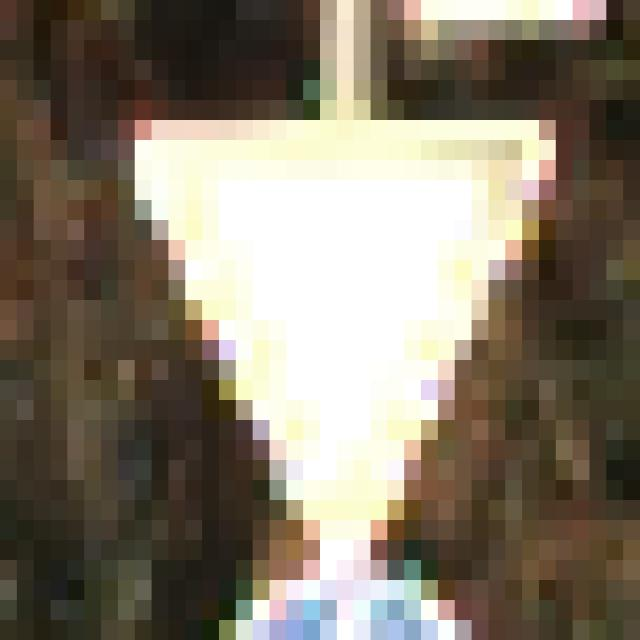Give Way: (102, 101, 557, 541)
